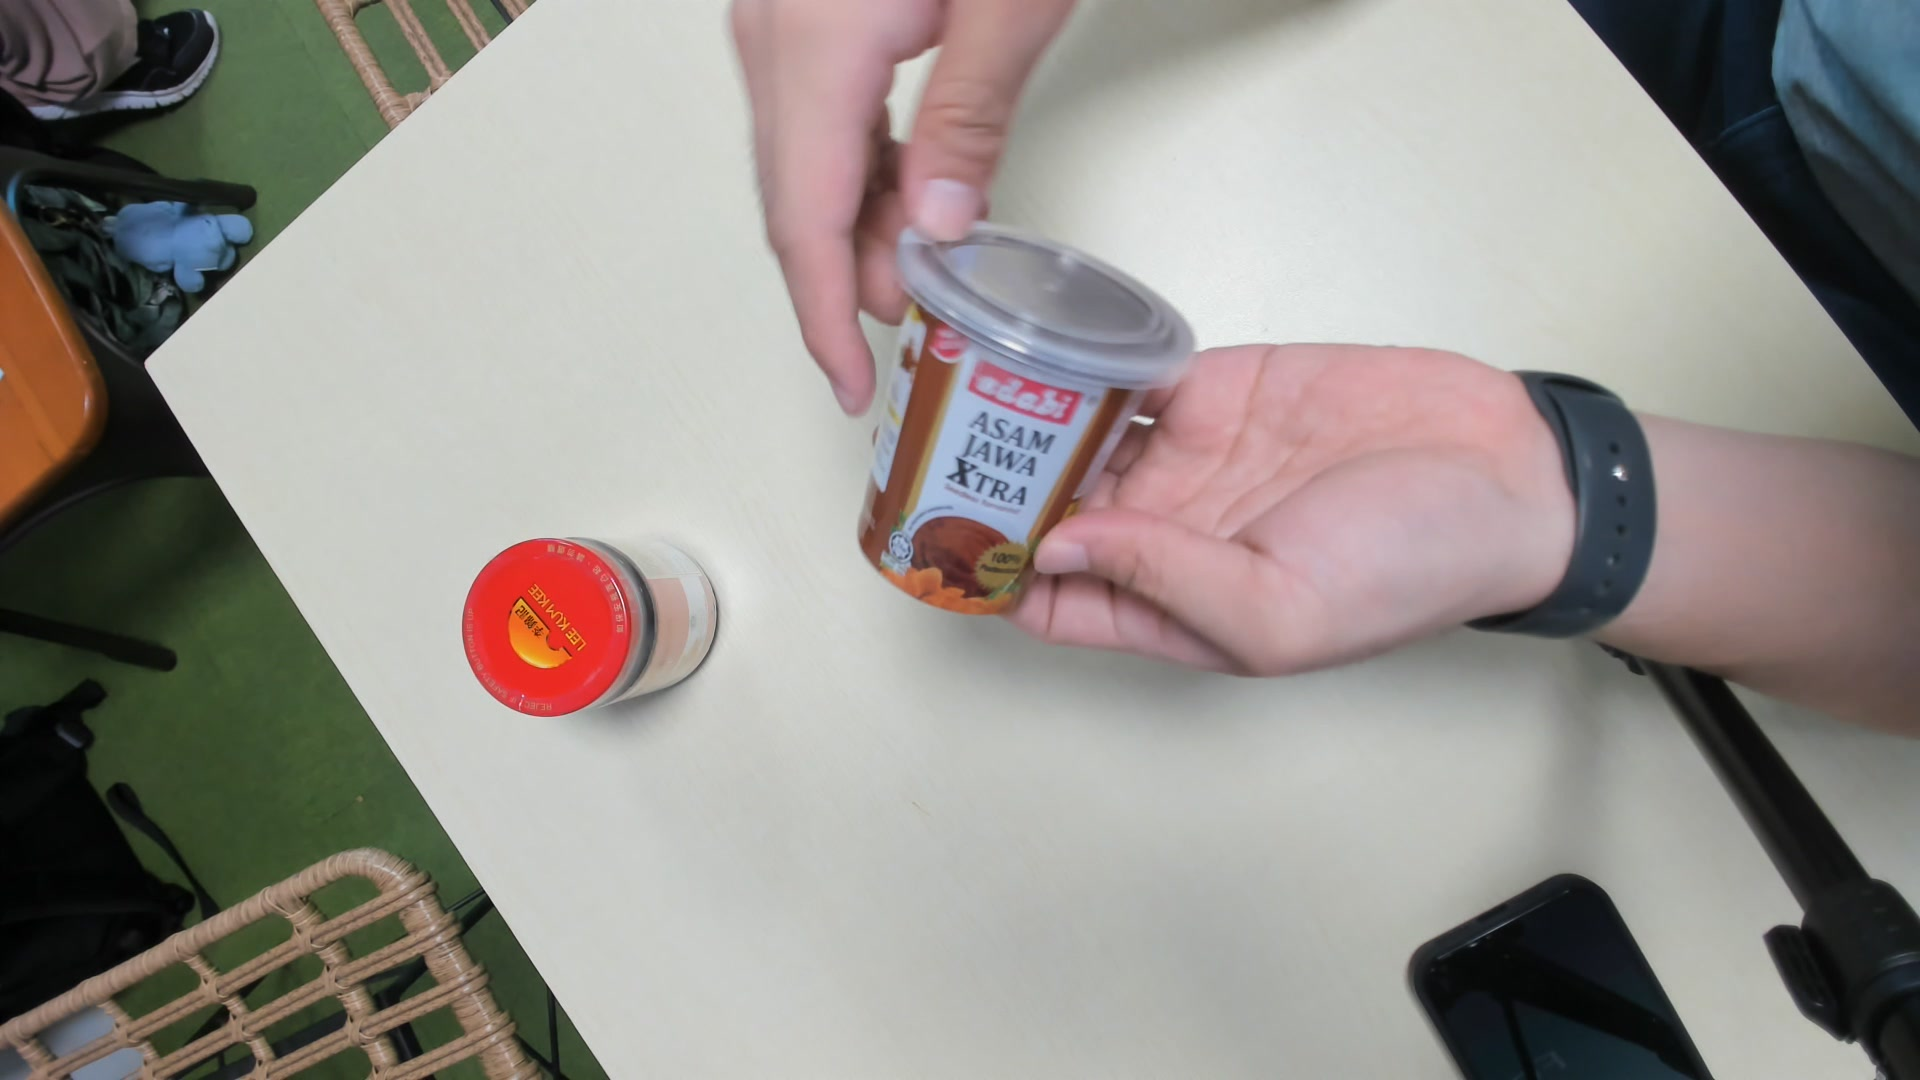OtherSauceDressing_200-299g_Halal_NonHealthy: (843, 215, 1188, 621)
